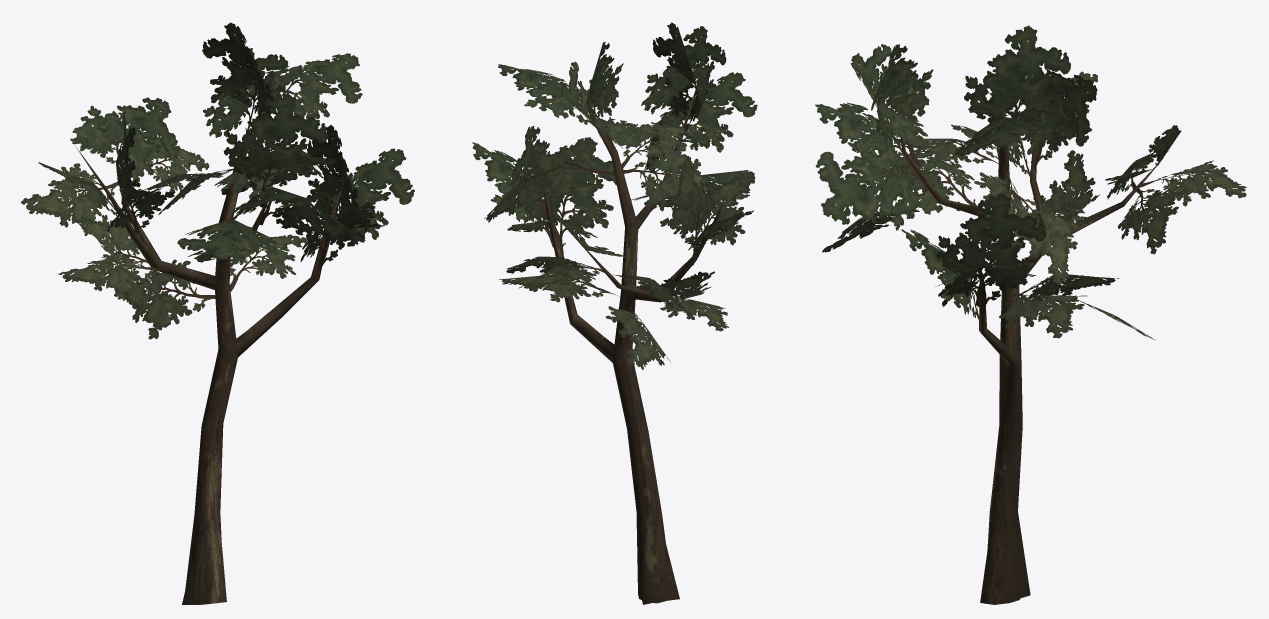
3 views of the same model, side by side, from view 1: azimuth 30°, elevation 25°; view 2: azimuth 150°, elevation 25°; view 3: azimuth 270°, elevation 25° (orthographic). The views are drawn at different scales.
Parts seen in each view (by area): view 1: body0_model0_lod0_mesh0, body0_model0_lod0_mesh1; view 2: body0_model0_lod0_mesh0, body0_model0_lod0_mesh1; view 3: body0_model0_lod0_mesh0, body0_model0_lod0_mesh1.
Boxes of the visible parts, <box> form: body0_model0_lod0_mesh0: <box>21,22,414,339</box>; body0_model0_lod0_mesh1: <box>75,74,344,604</box>; body0_model0_lod0_mesh0: <box>472,22,757,369</box>; body0_model0_lod0_mesh1: <box>542,83,729,604</box>; body0_model0_lod0_mesh0: <box>815,25,1246,340</box>; body0_model0_lod0_mesh1: <box>896,70,1163,604</box>.
Size of the model in its own units: 689 by 1153 by 789.
Materials: 2 (2 with a texture image).
